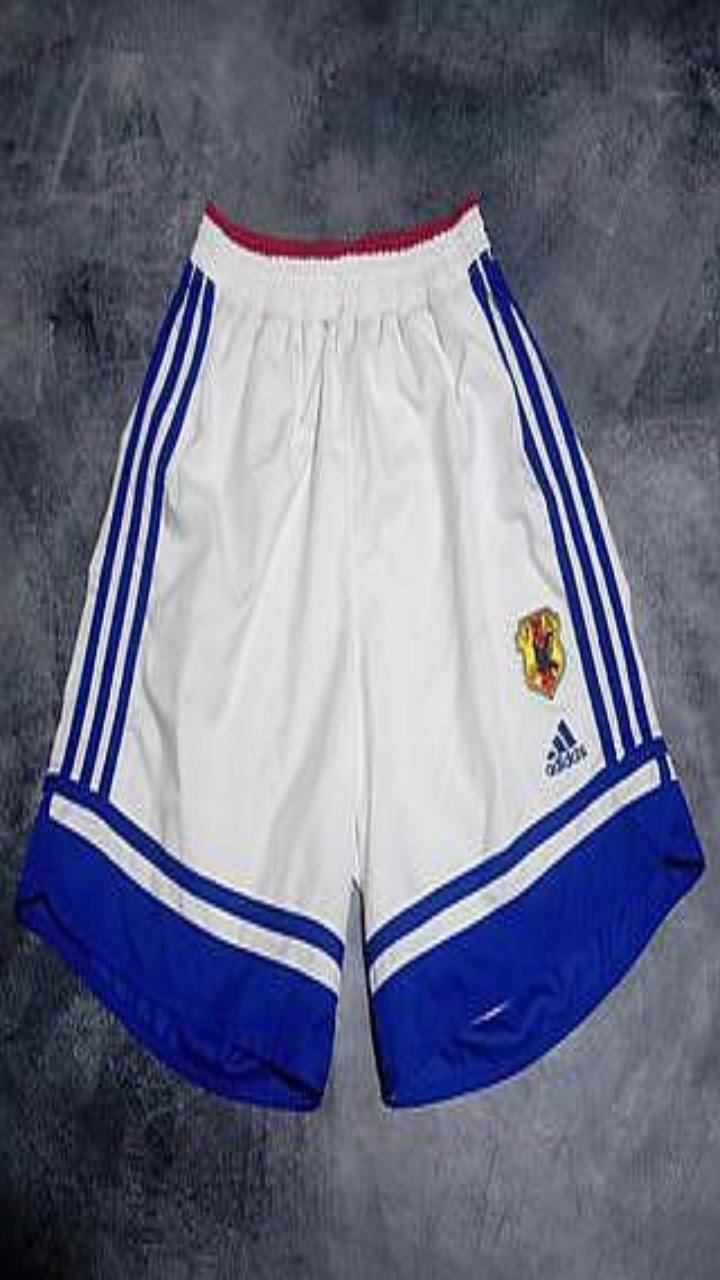Shorts: (16, 198, 703, 1108)
